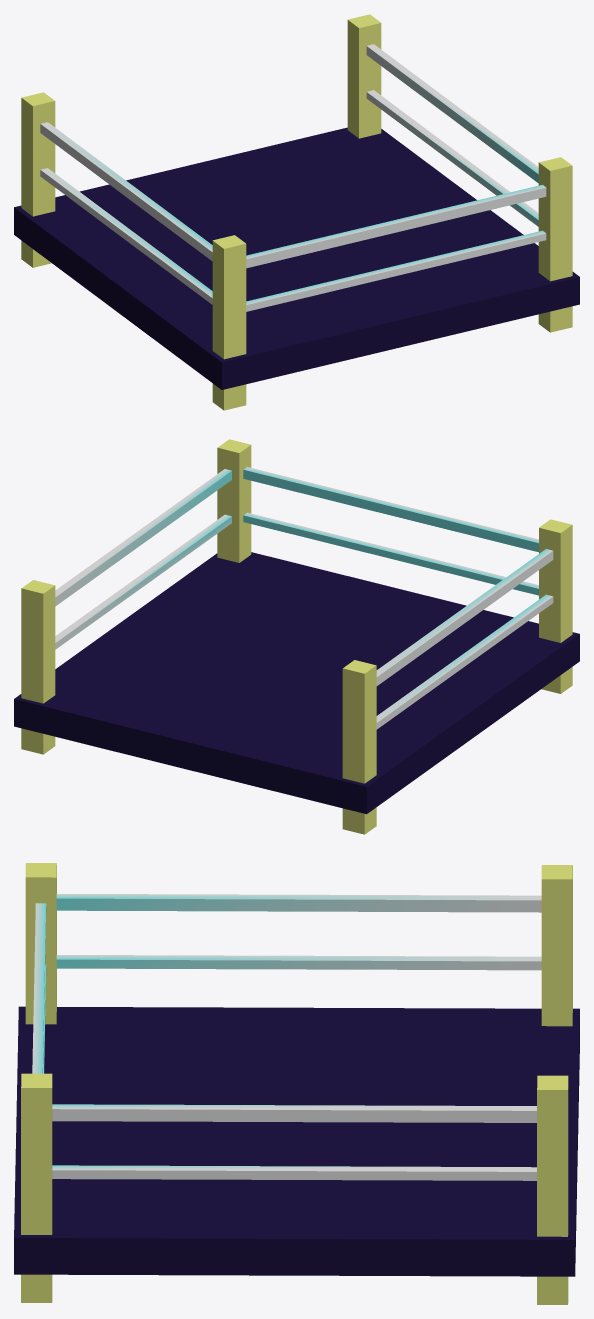
3 renders of one model, top to bottom at view 1: azimuth 30°, elevation 25°; view 2: azimuth 150°, elevation 25°; view 3: azimuth 270°, elevation 25°, orthographic. The views are drawn at different scales.
Parts seen in each view (by area): view 1: platform, post, post.001, post.002, upper.002, post.003, lower.002, upper, upper.001, lower, lower.001; view 2: platform, post.002, post.003, post, upper.002, post.001, lower.002, upper, upper.001, lower, lower.001; view 3: platform, upper.001, upper, lower.001, lower, post.001, post.003, post.002, post, upper.002.
Part boxes in pixels (bbox=[...]): platform: bbox=[14, 127, 579, 389]; post: bbox=[212, 235, 246, 410]; post.001: bbox=[538, 157, 572, 332]; post.002: bbox=[21, 92, 55, 267]; upper.002: bbox=[246, 184, 546, 268]; post.003: bbox=[347, 14, 381, 138]; lower.002: bbox=[246, 230, 546, 311]; upper: bbox=[40, 122, 212, 261]; upper.001: bbox=[366, 44, 538, 183]; lower: bbox=[40, 168, 212, 304]; lower.001: bbox=[366, 90, 538, 226]; platform: bbox=[14, 552, 579, 814]; post.002: bbox=[342, 660, 376, 834]; post.003: bbox=[21, 580, 55, 754]; post: bbox=[539, 519, 572, 693]; upper.002: bbox=[243, 467, 538, 552]; post.001: bbox=[217, 439, 251, 562]; lower.002: bbox=[243, 512, 538, 595]; upper: bbox=[376, 549, 553, 685]; upper.001: bbox=[55, 469, 231, 606]; lower: bbox=[376, 594, 553, 729]; lower.001: bbox=[55, 514, 231, 649]; platform: bbox=[14, 1006, 579, 1276]; upper.001: bbox=[52, 1104, 536, 1122]; upper: bbox=[56, 893, 541, 912]; lower.001: bbox=[52, 1165, 536, 1180]; lower: bbox=[56, 955, 541, 970]; post.001: bbox=[21, 1073, 52, 1302]; post.003: bbox=[537, 1075, 568, 1304]; post.002: bbox=[541, 865, 572, 1026]; post: bbox=[25, 863, 56, 1024]; upper.002: bbox=[32, 903, 46, 1073].
Size of the model in its own units: 6 by 2.58 by 6.15.
